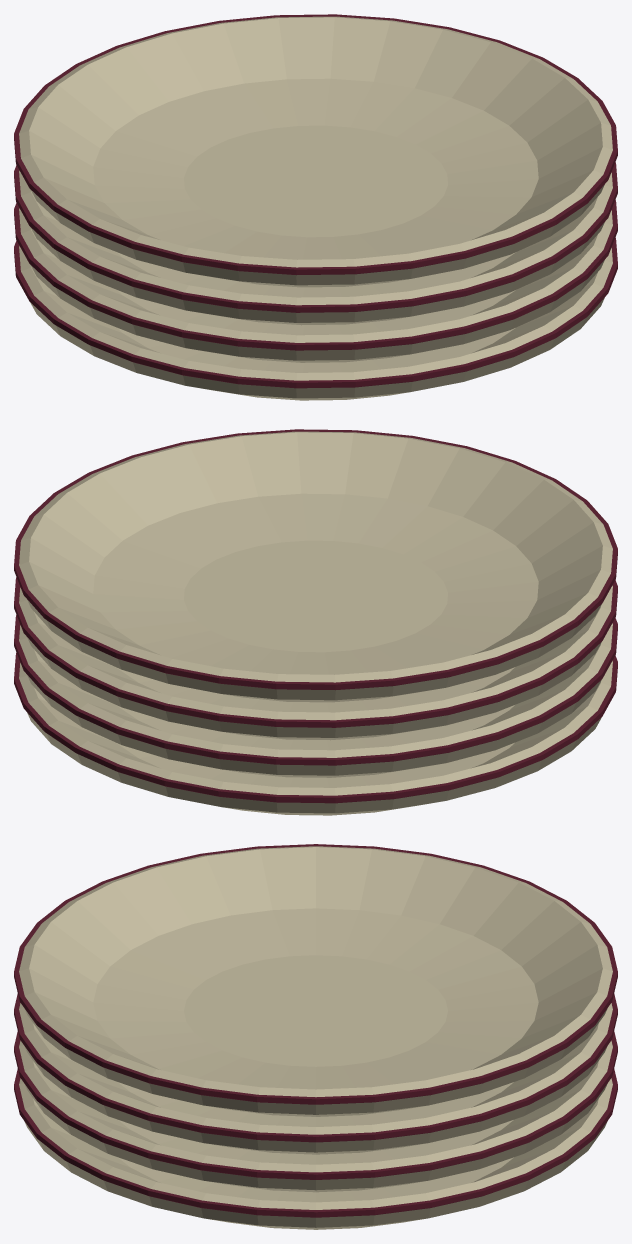
File: KitchenPlateStack.glb
The picture shows the model from 3 angles, top to bottom: view 1: azimuth 30°, elevation 25°; view 2: azimuth 150°, elevation 25°; view 3: azimuth 270°, elevation 25°; orthographic projection.
Parts seen in each view (by area): view 1: CeramicPlate.003, CeramicPlate.001, CeramicPlate, CeramicPlate.002, BurgundyPlateRim.003, BurgundyPlateRim.001, BurgundyPlateRim.002, BurgundyPlateRim; view 2: CeramicPlate.003, CeramicPlate.001, CeramicPlate, CeramicPlate.002, BurgundyPlateRim.003, BurgundyPlateRim.001, BurgundyPlateRim.002, BurgundyPlateRim; view 3: CeramicPlate.003, CeramicPlate, CeramicPlate.002, CeramicPlate.001, BurgundyPlateRim.003, BurgundyPlateRim.002, BurgundyPlateRim, BurgundyPlateRim.001.
Part boxes in pixels (bbox=[...]): CeramicPlate.003: bbox=[19, 16, 612, 287]; CeramicPlate.001: bbox=[19, 208, 612, 362]; CeramicPlate: bbox=[19, 246, 612, 400]; CeramicPlate.002: bbox=[19, 170, 612, 325]; BurgundyPlateRim.003: bbox=[14, 14, 617, 275]; BurgundyPlateRim.001: bbox=[14, 200, 617, 350]; BurgundyPlateRim.002: bbox=[14, 162, 617, 312]; BurgundyPlateRim: bbox=[14, 237, 617, 388]; CeramicPlate.003: bbox=[19, 431, 612, 702]; CeramicPlate.001: bbox=[19, 623, 612, 777]; CeramicPlate: bbox=[19, 661, 612, 815]; CeramicPlate.002: bbox=[19, 585, 612, 740]; BurgundyPlateRim.003: bbox=[14, 429, 617, 690]; BurgundyPlateRim.001: bbox=[14, 615, 617, 765]; BurgundyPlateRim.002: bbox=[14, 577, 617, 727]; BurgundyPlateRim: bbox=[14, 652, 617, 803]; CeramicPlate.003: bbox=[19, 846, 612, 1116]; CeramicPlate: bbox=[19, 1078, 612, 1229]; CeramicPlate.002: bbox=[19, 1003, 612, 1154]; CeramicPlate.001: bbox=[19, 1040, 612, 1192]; BurgundyPlateRim.003: bbox=[14, 844, 617, 1104]; BurgundyPlateRim.002: bbox=[14, 993, 617, 1142]; BurgundyPlateRim: bbox=[14, 1069, 617, 1217]; BurgundyPlateRim.001: bbox=[14, 1031, 617, 1179].
Bounding box in the file's own units: 1.6 × 0.535 × 1.6.
